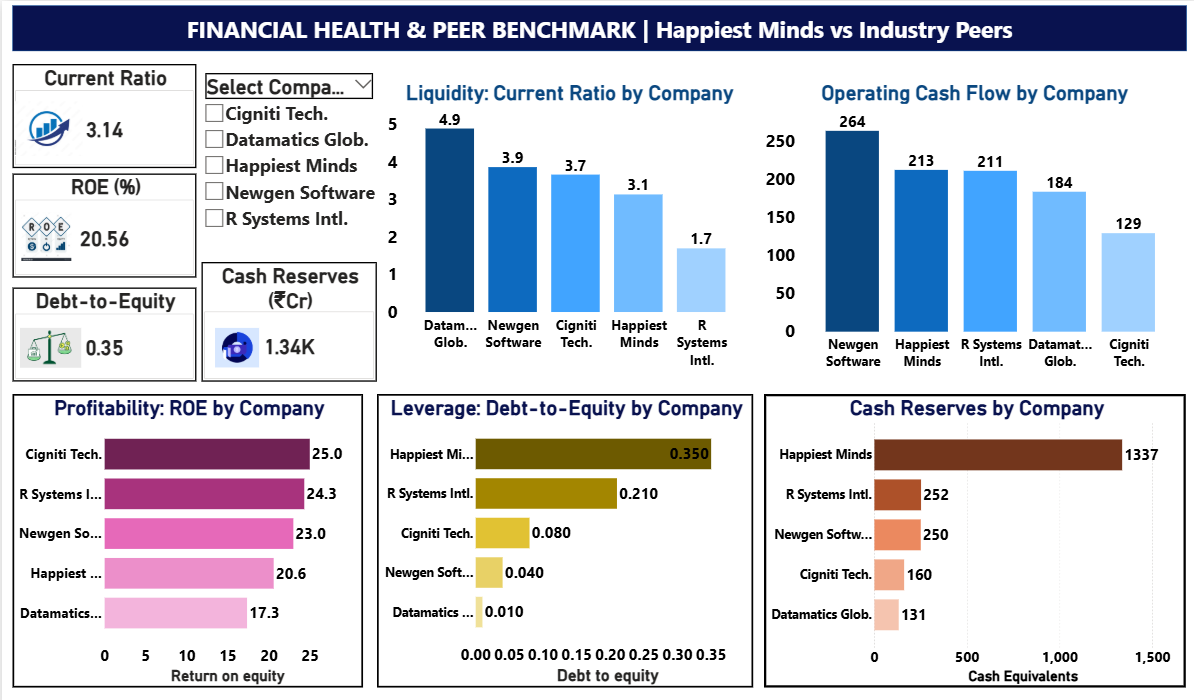

Layout of this report page (visuals, bound fields, positions):
{"tool":"powerbi","page":{"name":"Financial Health & Peer Benchmark","canvas":[4200,2500],"ordinal":1},"visuals":[{"type":"clusteredColumnChart","title":"Liquidity: Current Ratio by Company","fields":{"Category":["other_metrics.Name"],"Y":["Sum(other_metrics.Current ratio)"]},"box":[1345,280,1290,1020],"z":0},{"type":"clusteredBarChart","title":"Leverage: Debt-to-Equity by Company","fields":{"Y":["Sum(ratios.Debt to equity)"],"Category":["ratios.Name"]},"box":[1315,1380,1320,1030],"z":1000},{"type":"clusteredBarChart","title":"Profitability: ROE by Company","fields":{"Category":["ratios.Name"],"Y":["Sum(ratios.Return on equity)"]},"box":[35,1380,1230,1030],"z":2000},{"type":"clusteredBarChart","title":"Cash Reserves by Company","fields":{"Y":["Sum(balance_sheet.Cash Equivalents)"],"Category":["balance_sheet.Name"]},"box":[2675,1380,1480,1030],"z":3000},{"type":"shape","box":[35,15,4120,160],"z":4000},{"type":"clusteredColumnChart","title":"Operating Cash Flow by Company","fields":{"Category":["cash_flow.Name"],"Y":["Sum(cash_flow.Cash from operations last year)"]},"box":[2675,280,1480,1020],"z":5000},{"type":"cardVisual","title":"Current Ratio","fields":{"Data":["Sum(other_metrics.Current ratio)"]},"box":[35,220,645,365],"z":6000},{"type":"cardVisual","title":"Debt-to-Equity","fields":{"Data":["Sum(ratios.Debt to equity)"]},"box":[35,1005,645,330],"z":7000},{"type":"cardVisual","title":"Cash Reserves (₹Cr)","fields":{"Data":["Sum(balance_sheet.Cash Equivalents)"]},"box":[700,915,615,420],"z":8000},{"type":"cardVisual","title":"ROE (%)","fields":{"Data":["Sum(ratios.Return on equity)"]},"box":[35,605,645,365],"z":9000},{"type":"slicer","fields":{"Values":["annual_p_l.Name"]},"box":[700,245,615,620],"z":10000},{"type":"image","box":[35,310,250,275],"z":10001},{"type":"image","box":[60,735,195,180],"z":10002},{"type":"image","box":[60,1130,225,170],"z":10003},{"type":"image","box":[740,1120,165,190],"z":10004}]}

Visuals, with their boxes in screenshot pixels (x1, y1, x2, y2), scaled from the page's 4200x2500 canvas onto the 1194x700 screenshot:
"Liquidity: Current Ratio by Company" clusteredColumnChart: box(382, 78, 749, 364)
"Leverage: Debt-to-Equity by Company" clusteredBarChart: box(374, 386, 749, 675)
"Profitability: ROE by Company" clusteredBarChart: box(10, 386, 360, 675)
"Cash Reserves by Company" clusteredBarChart: box(760, 386, 1181, 675)
shape: box(10, 4, 1181, 49)
"Operating Cash Flow by Company" clusteredColumnChart: box(760, 78, 1181, 364)
"Current Ratio" cardVisual: box(10, 62, 193, 164)
"Debt-to-Equity" cardVisual: box(10, 281, 193, 374)
"Cash Reserves (₹Cr)" cardVisual: box(199, 256, 374, 374)
"ROE (%)" cardVisual: box(10, 169, 193, 272)
slicer - annual_p_l.Name: box(199, 69, 374, 242)
image: box(10, 87, 81, 164)
image: box(17, 206, 72, 256)
image: box(17, 316, 81, 364)
image: box(210, 314, 257, 367)
